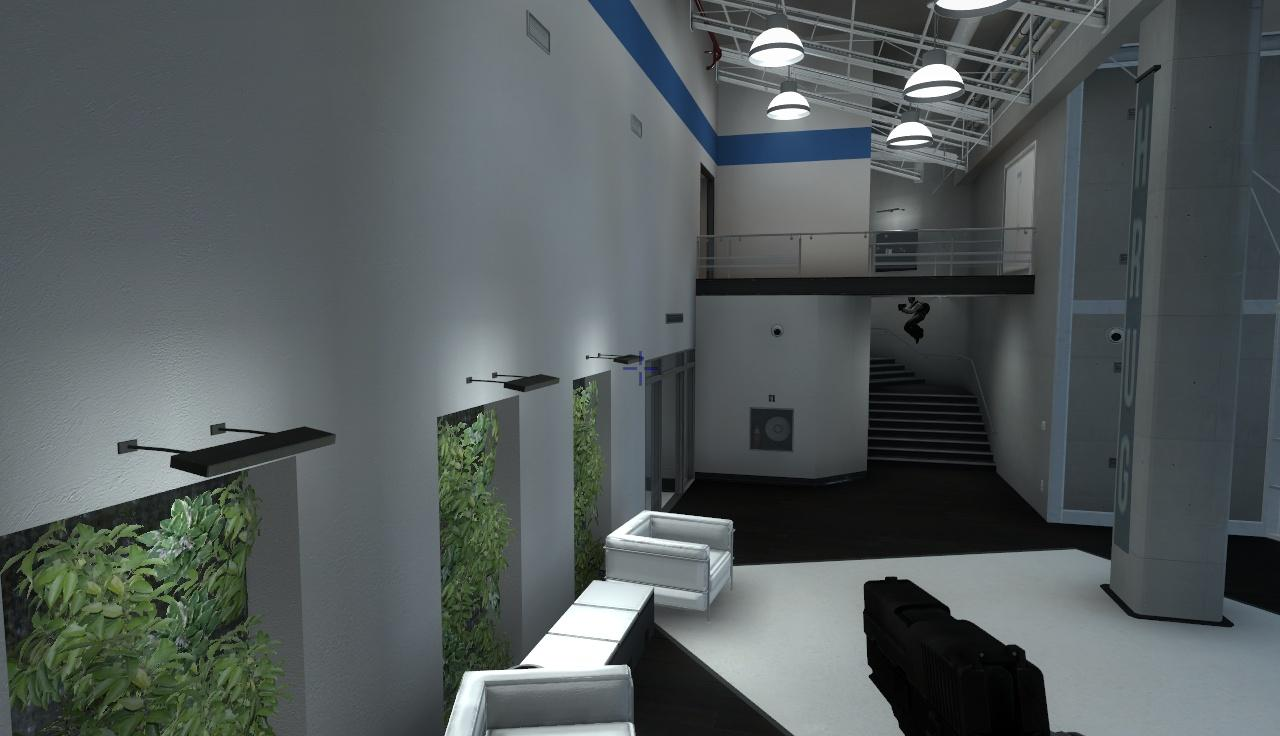pistol: (852, 567, 1065, 736)
tt: (902, 297, 925, 344)
